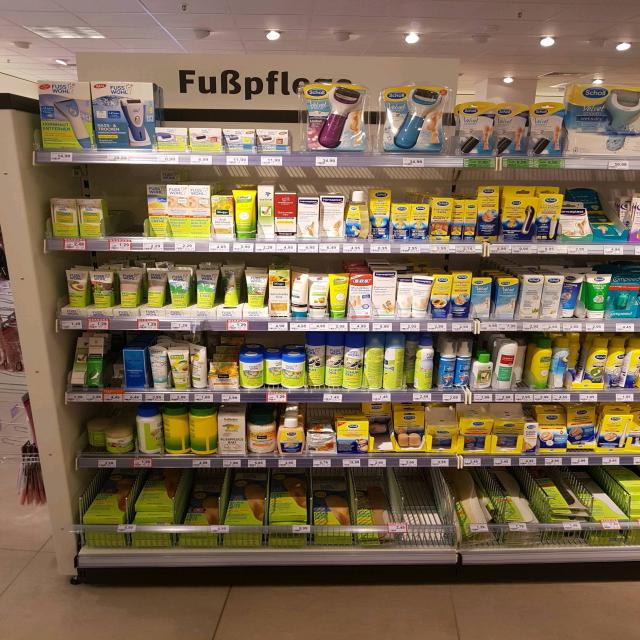void: (398, 472, 444, 552), (111, 184, 145, 255)
